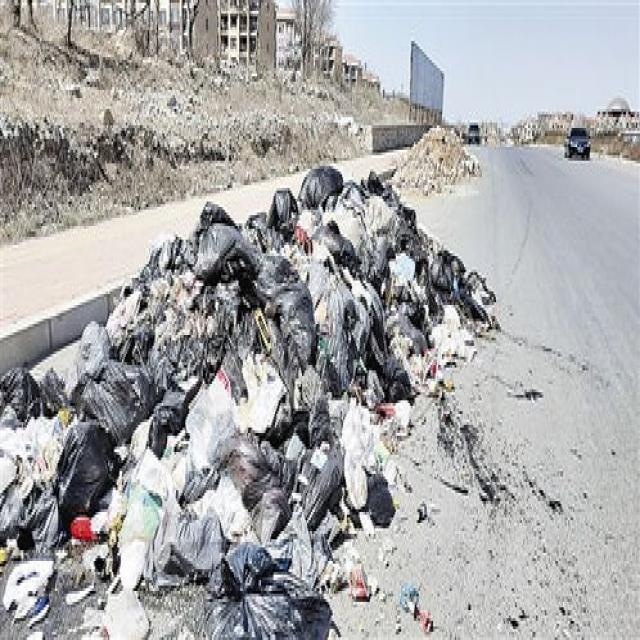garbage: (6, 356, 318, 600), (163, 168, 451, 408)
